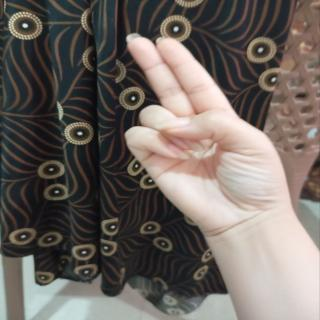TA: (114, 27, 297, 246)
